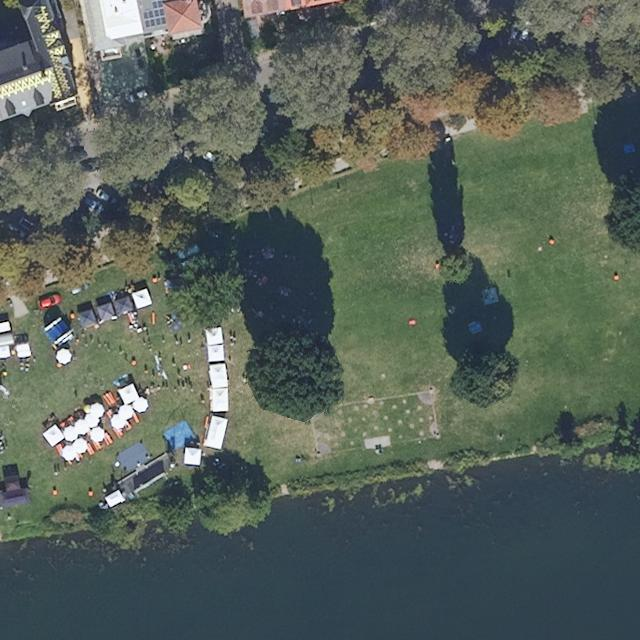PV: (142, 0, 168, 29)
